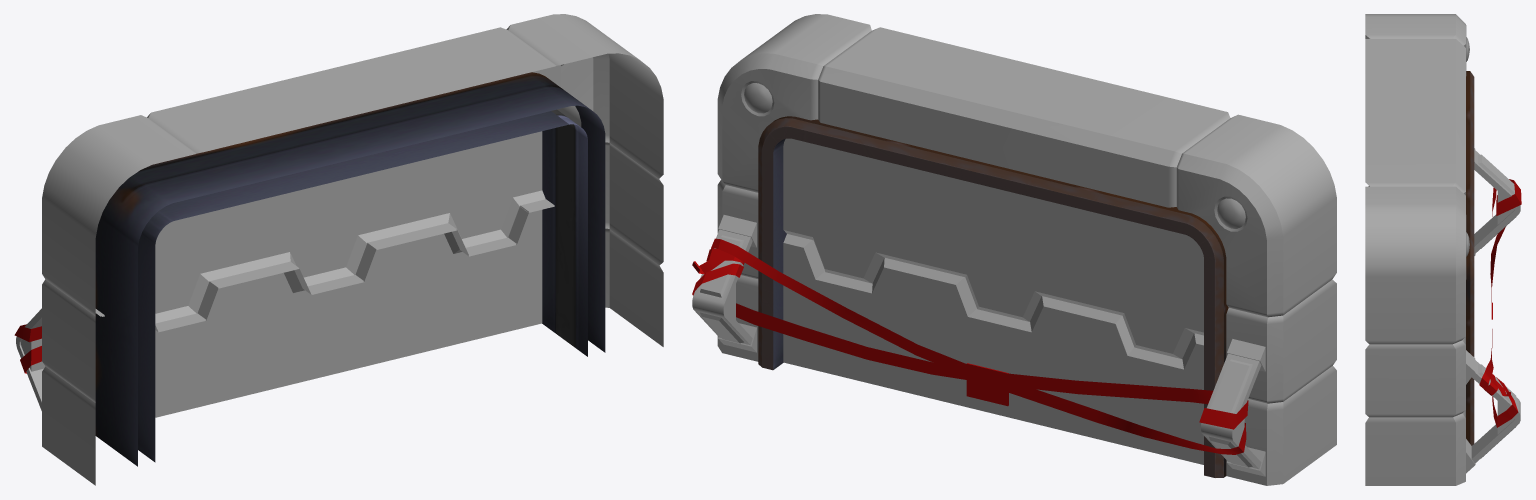
Rendered from env_building_warehouse01gate.fbx.
The picture shows the model from 3 angles, left to right: view 1: azimuth 30°, elevation 25°; view 2: azimuth 150°, elevation 25°; view 3: azimuth 270°, elevation 25°; orthographic projection. The views are drawn at different scales.
Parts seen in each view (by area): view 1: polySurface1222; view 2: polySurface1222; view 3: polySurface1222.
Part boxes in pixels (x1,y1,x2,y2): polySurface1222: (14, 14, 663, 485); polySurface1222: (692, 14, 1336, 485); polySurface1222: (1365, 14, 1521, 485).
Size of the model in its own units: 0.5513 by 0.2852 by 0.1561.
